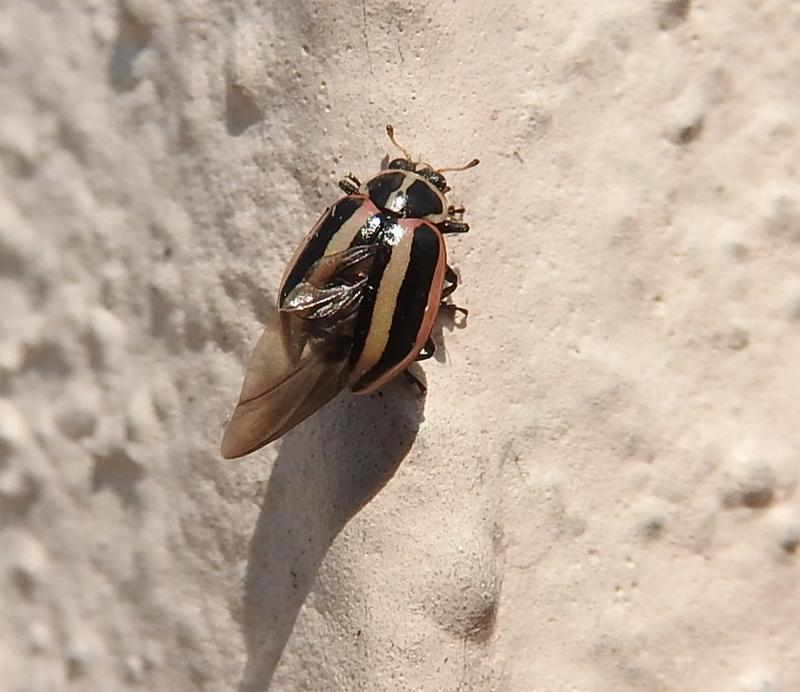ladybug: (213, 111, 495, 471)
